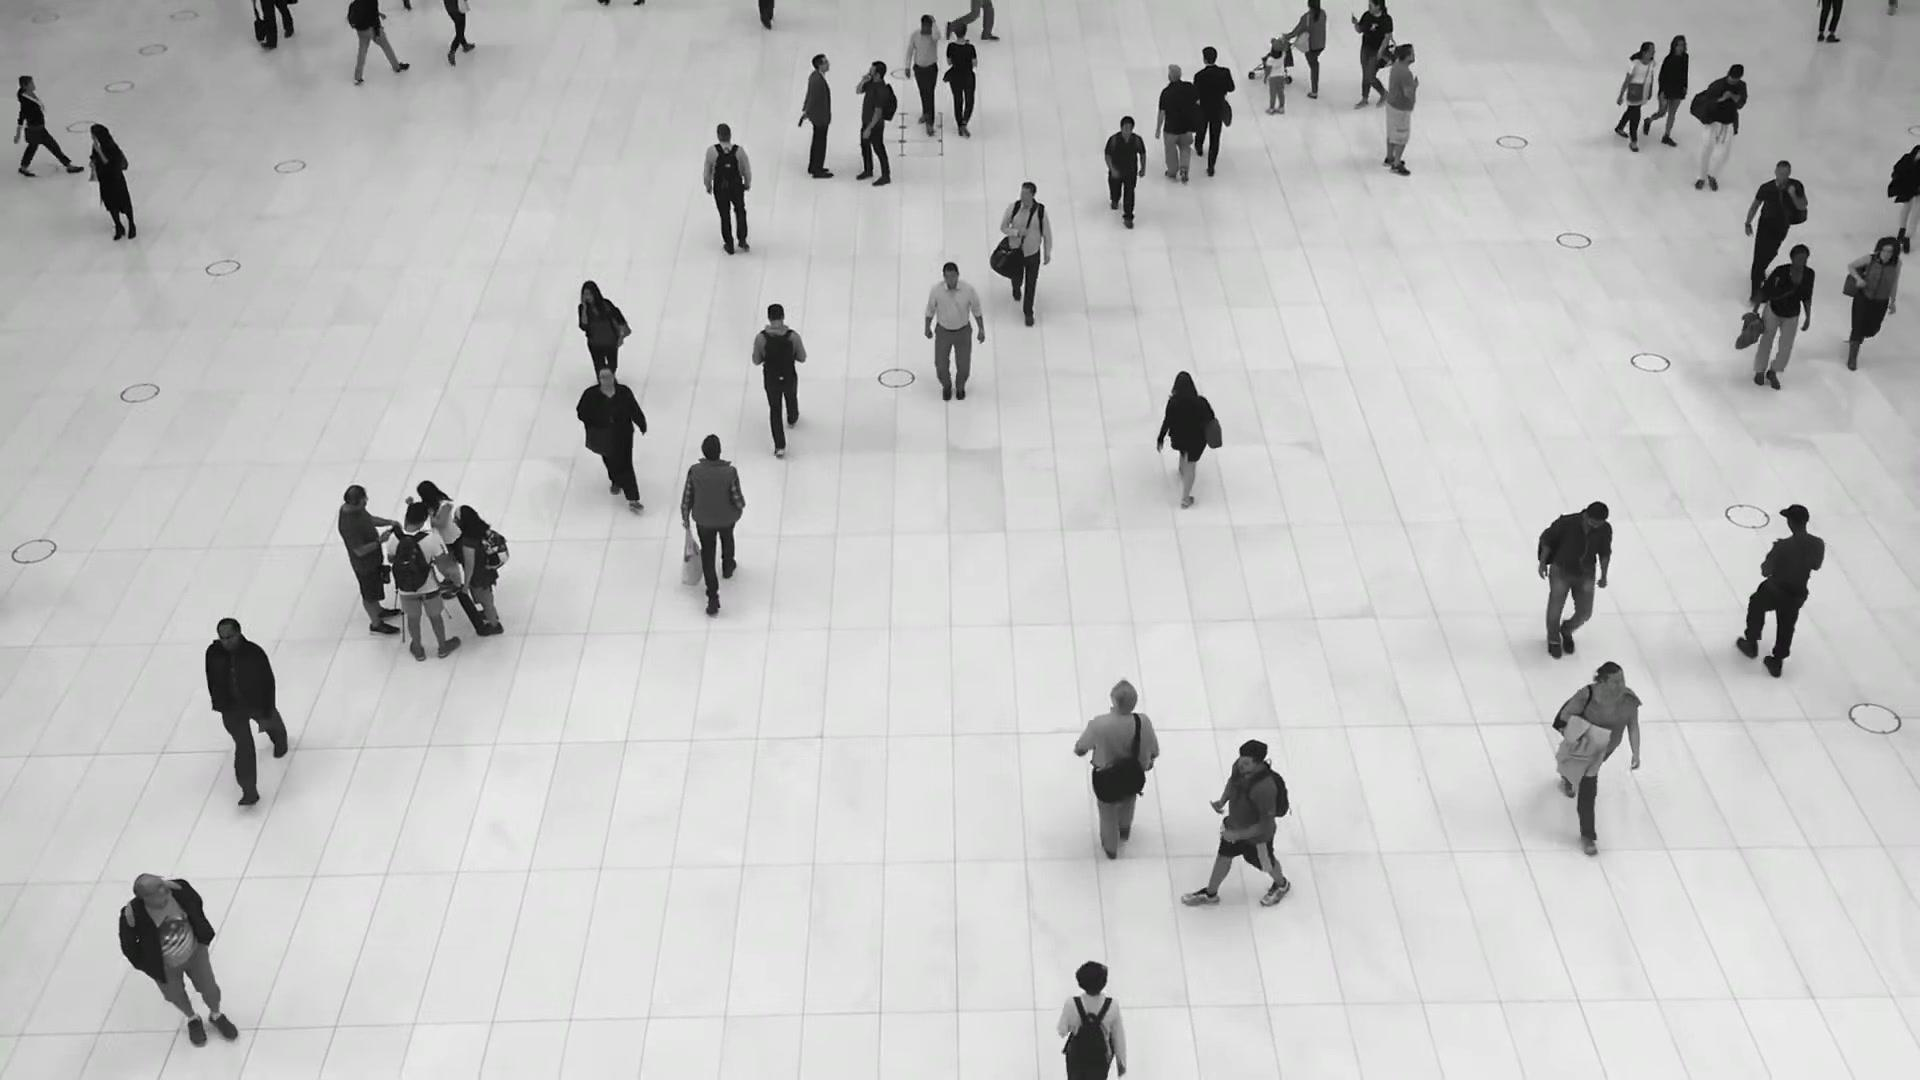person: (117, 871, 239, 1047), (1552, 658, 1644, 837), (1077, 683, 1161, 877), (204, 617, 289, 806), (1200, 735, 1290, 908), (1735, 503, 1824, 677), (1535, 503, 1613, 677), (383, 502, 460, 661), (680, 433, 746, 616), (576, 363, 647, 513), (337, 484, 401, 634), (1752, 243, 1816, 390), (1052, 962, 1126, 1080), (924, 262, 985, 402), (751, 303, 807, 456), (1156, 369, 1216, 509), (1843, 236, 1903, 372), (1745, 159, 1808, 284), (999, 182, 1053, 327), (13, 74, 85, 177), (1694, 63, 1747, 191), (454, 503, 504, 636), (703, 123, 752, 255), (1192, 45, 1235, 177), (89, 121, 136, 241), (1154, 64, 1201, 183), (577, 279, 629, 382), (416, 479, 459, 599), (854, 59, 896, 186), (1643, 34, 1689, 147), (1382, 42, 1420, 176), (1104, 114, 1146, 229), (1614, 40, 1657, 151), (797, 53, 834, 179), (1350, 0, 1392, 109), (904, 14, 942, 136), (1287, 0, 1326, 99), (945, 22, 977, 138), (1263, 36, 1288, 114)
